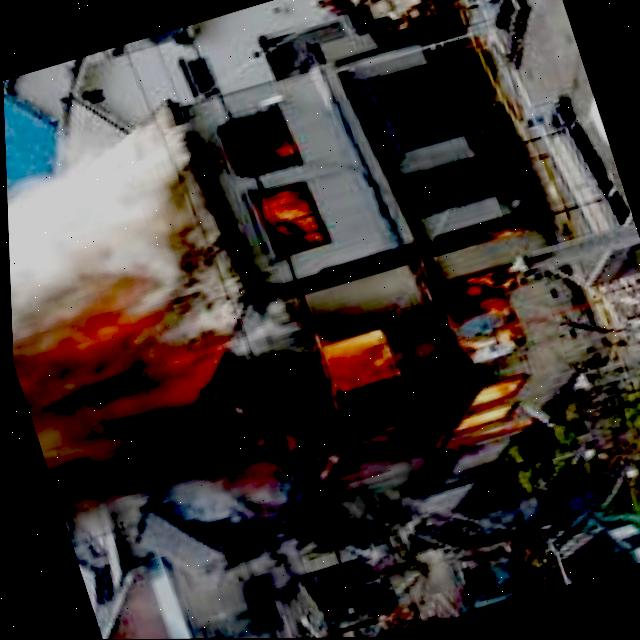Fire: (243, 206, 594, 488), (253, 177, 328, 253)
Smoke: (3, 98, 298, 547)
